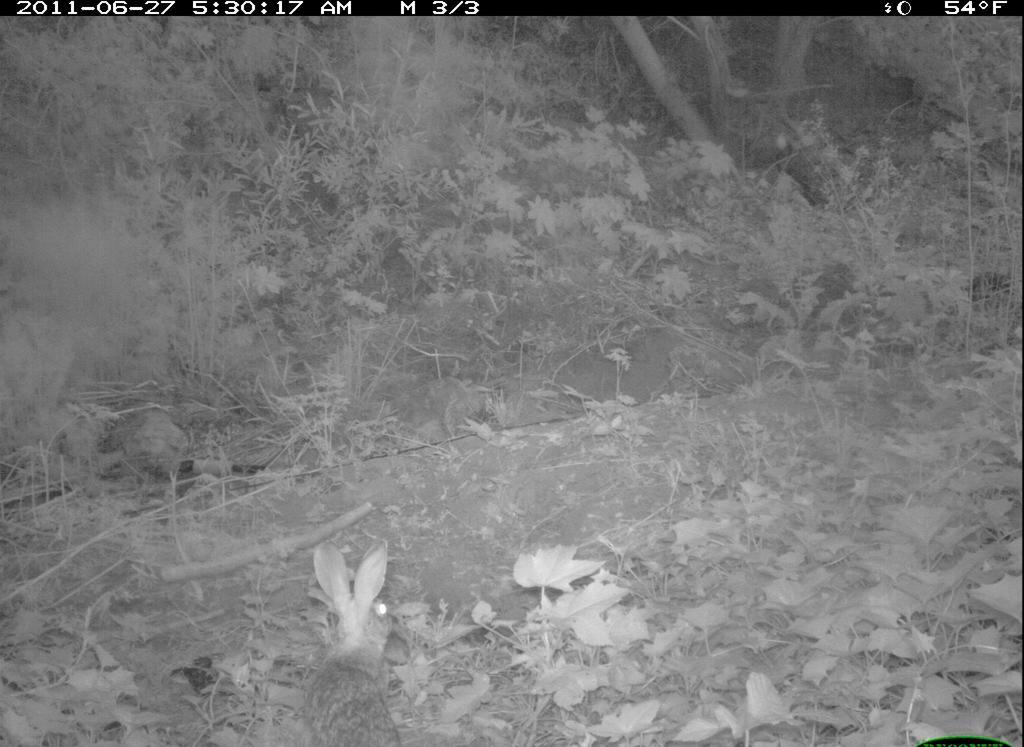rabbit: (291, 539, 413, 747)
